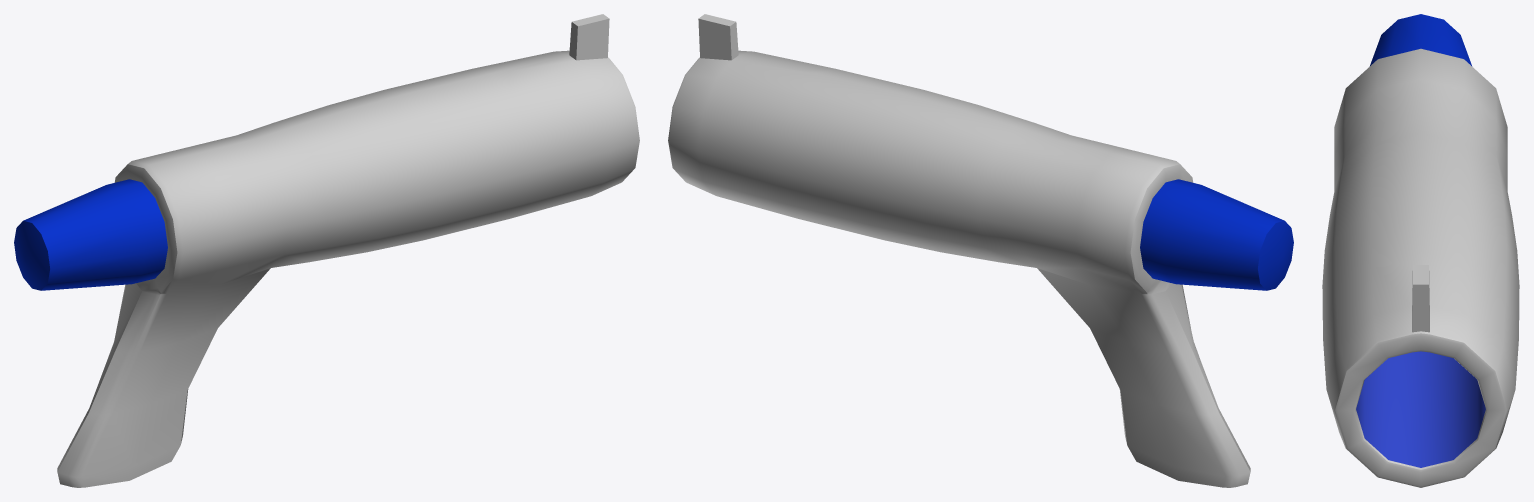
Rendered from gun.fbx.
3 views of the same model, side by side, from view 1: azimuth 30°, elevation 25°; view 2: azimuth 150°, elevation 25°; view 3: azimuth 270°, elevation 25° (orthographic). The views are drawn at different scales.
Visible parts, largest first — view 1: Gun; view 2: Gun; view 3: Gun.
Boxes of the visible parts, <box> form: Gun: <box>14,14,639,487</box>; Gun: <box>668,14,1293,487</box>; Gun: <box>1322,14,1519,487</box>.
Bounding box in the file's own units: 17.74 × 9.92 × 4.11.
